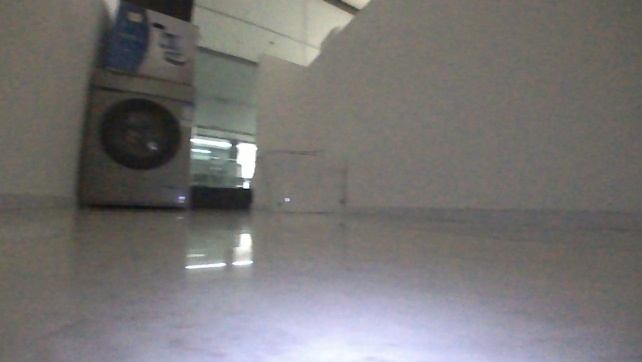toilet: (248, 145, 364, 217)
washing_machine: (83, 68, 205, 218)
